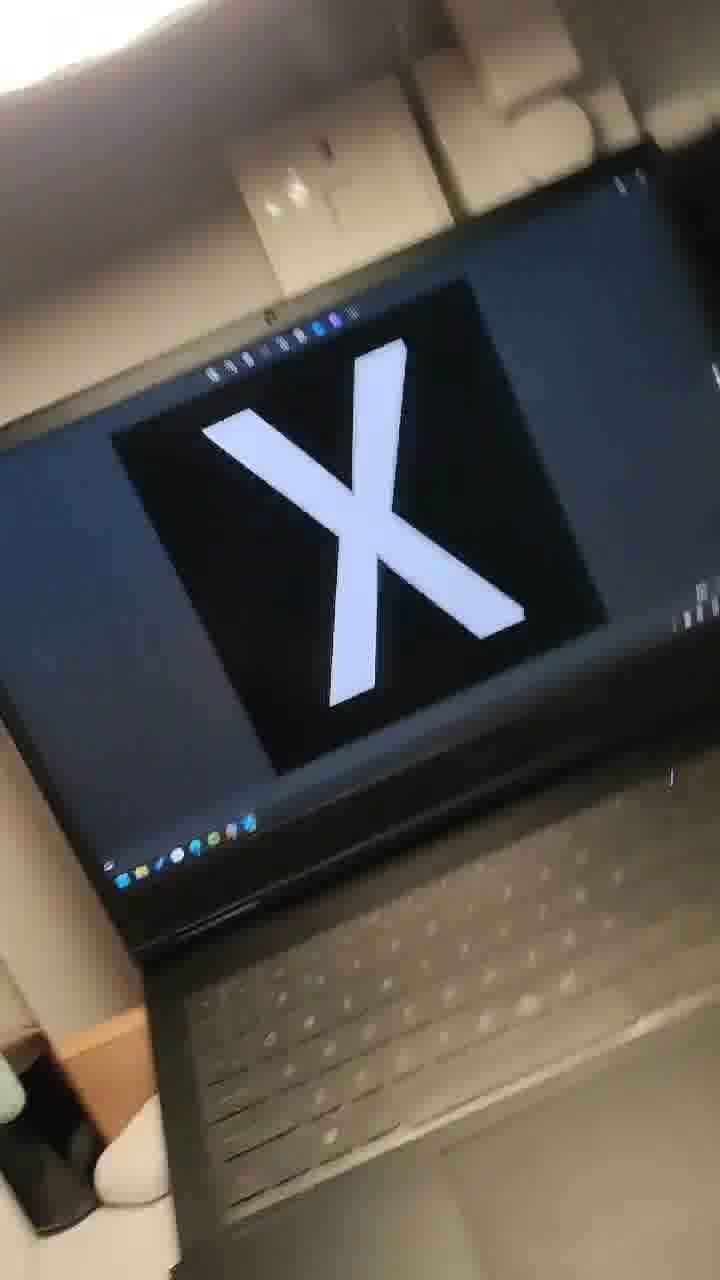X: (158, 279, 587, 739)
